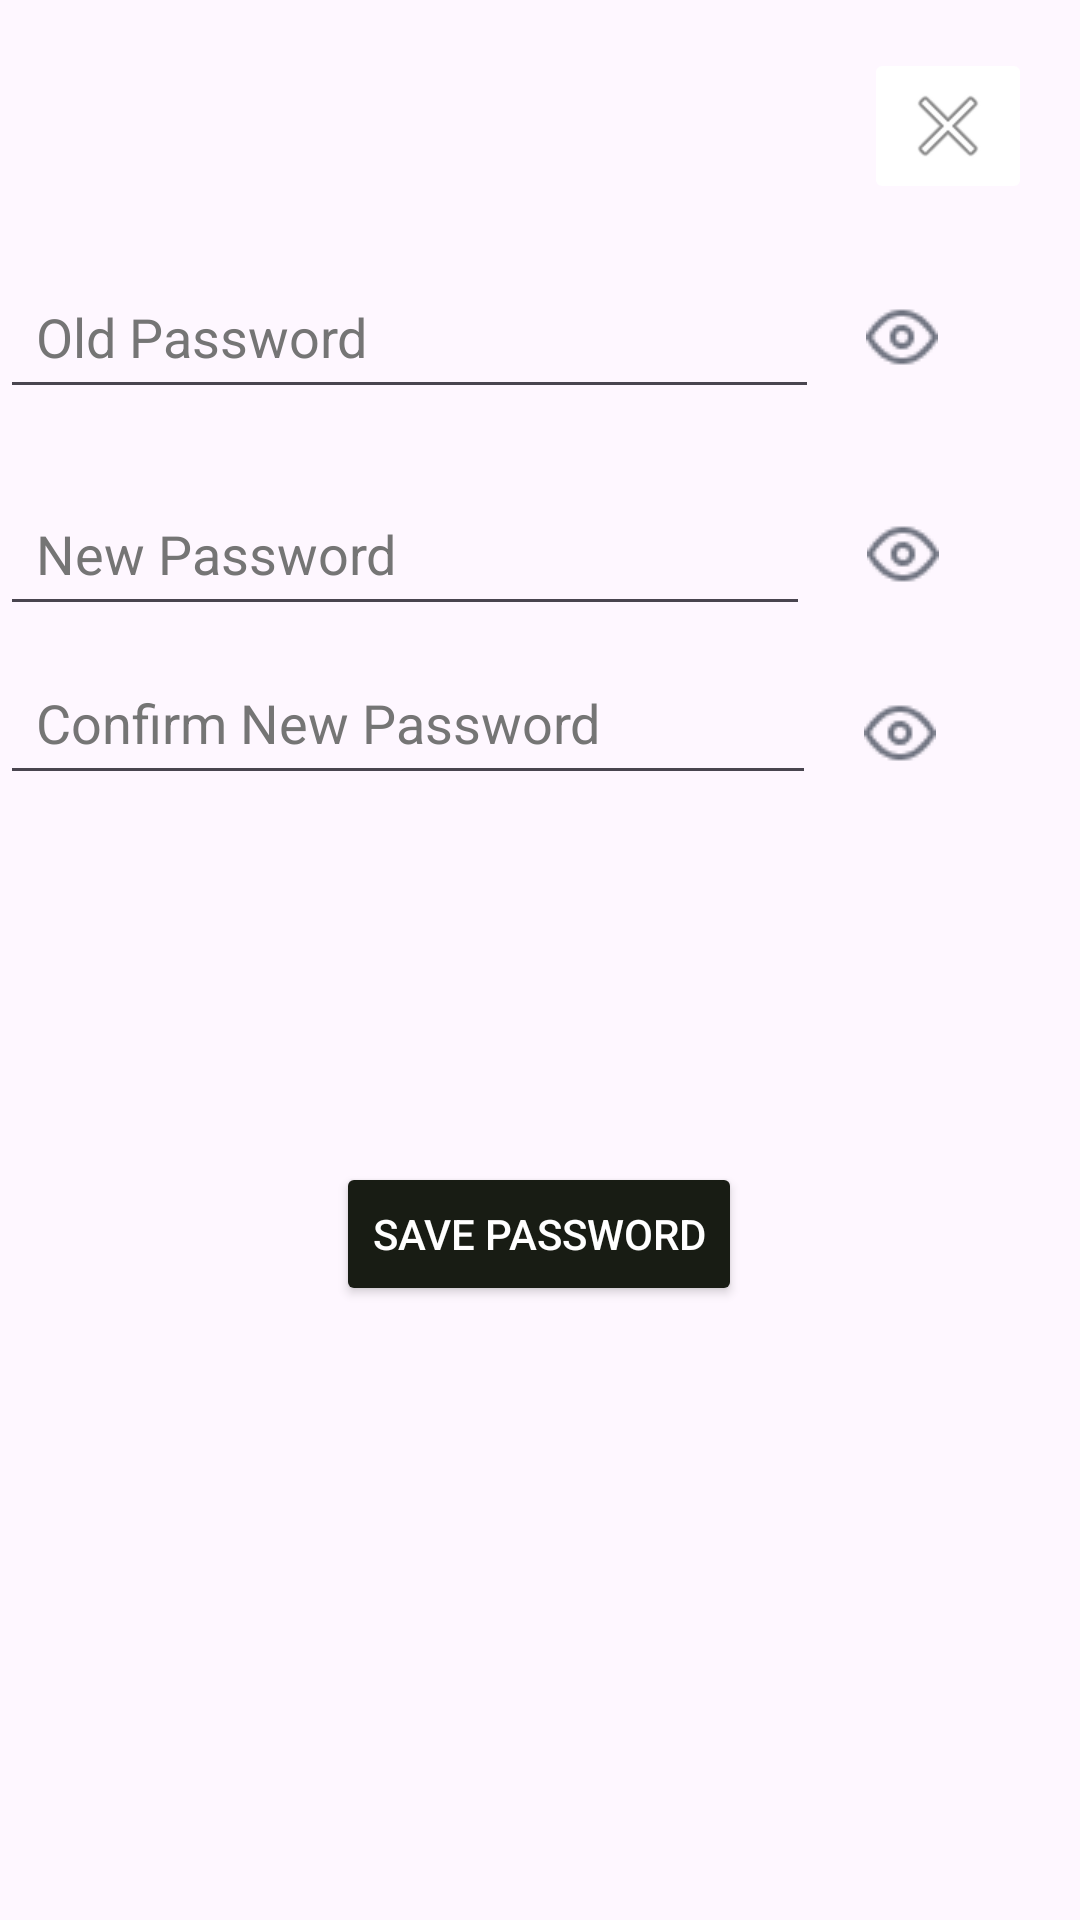

Icons on this 1080×1920 Android screen, each with its box as detection(x1, y1, x2, y2):
Close: detection(918, 96, 978, 156)
